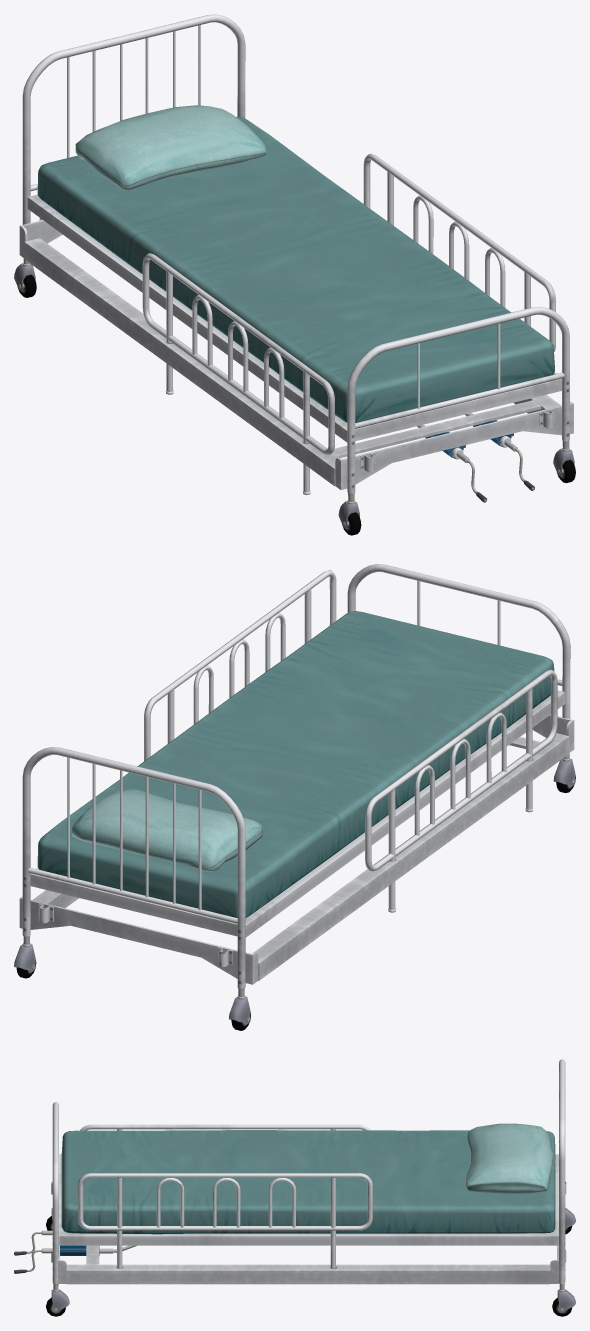
File: HospitalBed.FBX
3 views of the same model, one above another, from view 1: azimuth 30°, elevation 25°; view 2: azimuth 150°, elevation 25°; view 3: azimuth 270°, elevation 25° (orthographic). The views are drawn at different scales.
Parts seen in each view (by area): view 1: HospitalBedMattress, HospitalBed, HospitalBedPillow, HospitalBedRailing1, HospitalBedRailing2, HospitalBedWheel2, HospitalBedWheel1; view 2: HospitalBedMattress, HospitalBed, HospitalBedPillow, HospitalBedRailing1, HospitalBedRailing2, HospitalBedWheel3, HospitalBedWheel4, HospitalBedWheel1; view 3: HospitalBedMattress, HospitalBed, HospitalBedRailing2, HospitalBedPillow, HospitalBedRailing1, HospitalBedWheel3, HospitalBedWheel2.
Boxes of the visible parts, x1,y1,x2,y2 form: HospitalBedMattress: (37, 116, 554, 422); HospitalBed: (19, 14, 573, 502); HospitalBedPillow: (75, 105, 265, 190); HospitalBedRailing1: (142, 253, 334, 494); HospitalBedRailing2: (363, 153, 555, 351); HospitalBedWheel2: (553, 440, 575, 483); HospitalBedWheel1: (338, 493, 361, 535); HospitalBedMattress: (37, 611, 554, 917); HospitalBed: (19, 564, 574, 988); HospitalBedPillow: (71, 789, 263, 871); HospitalBedRailing1: (365, 669, 557, 912); HospitalBedRailing2: (144, 570, 336, 760); HospitalBedWheel3: (14, 935, 36, 978); HospitalBedWheel4: (229, 988, 250, 1030); HospitalBedWheel1: (553, 753, 575, 792); HospitalBedMattress: (61, 1130, 555, 1234); HospitalBed: (14, 1059, 566, 1284); HospitalBedRailing2: (78, 1173, 372, 1268); HospitalBedPillow: (466, 1123, 552, 1194); HospitalBedRailing1: (80, 1124, 370, 1130); HospitalBedWheel3: (552, 1283, 575, 1316); HospitalBedWheel2: (46, 1283, 69, 1316).
Bounding box in the file's own units: 82.13 × 79.22 × 218.
